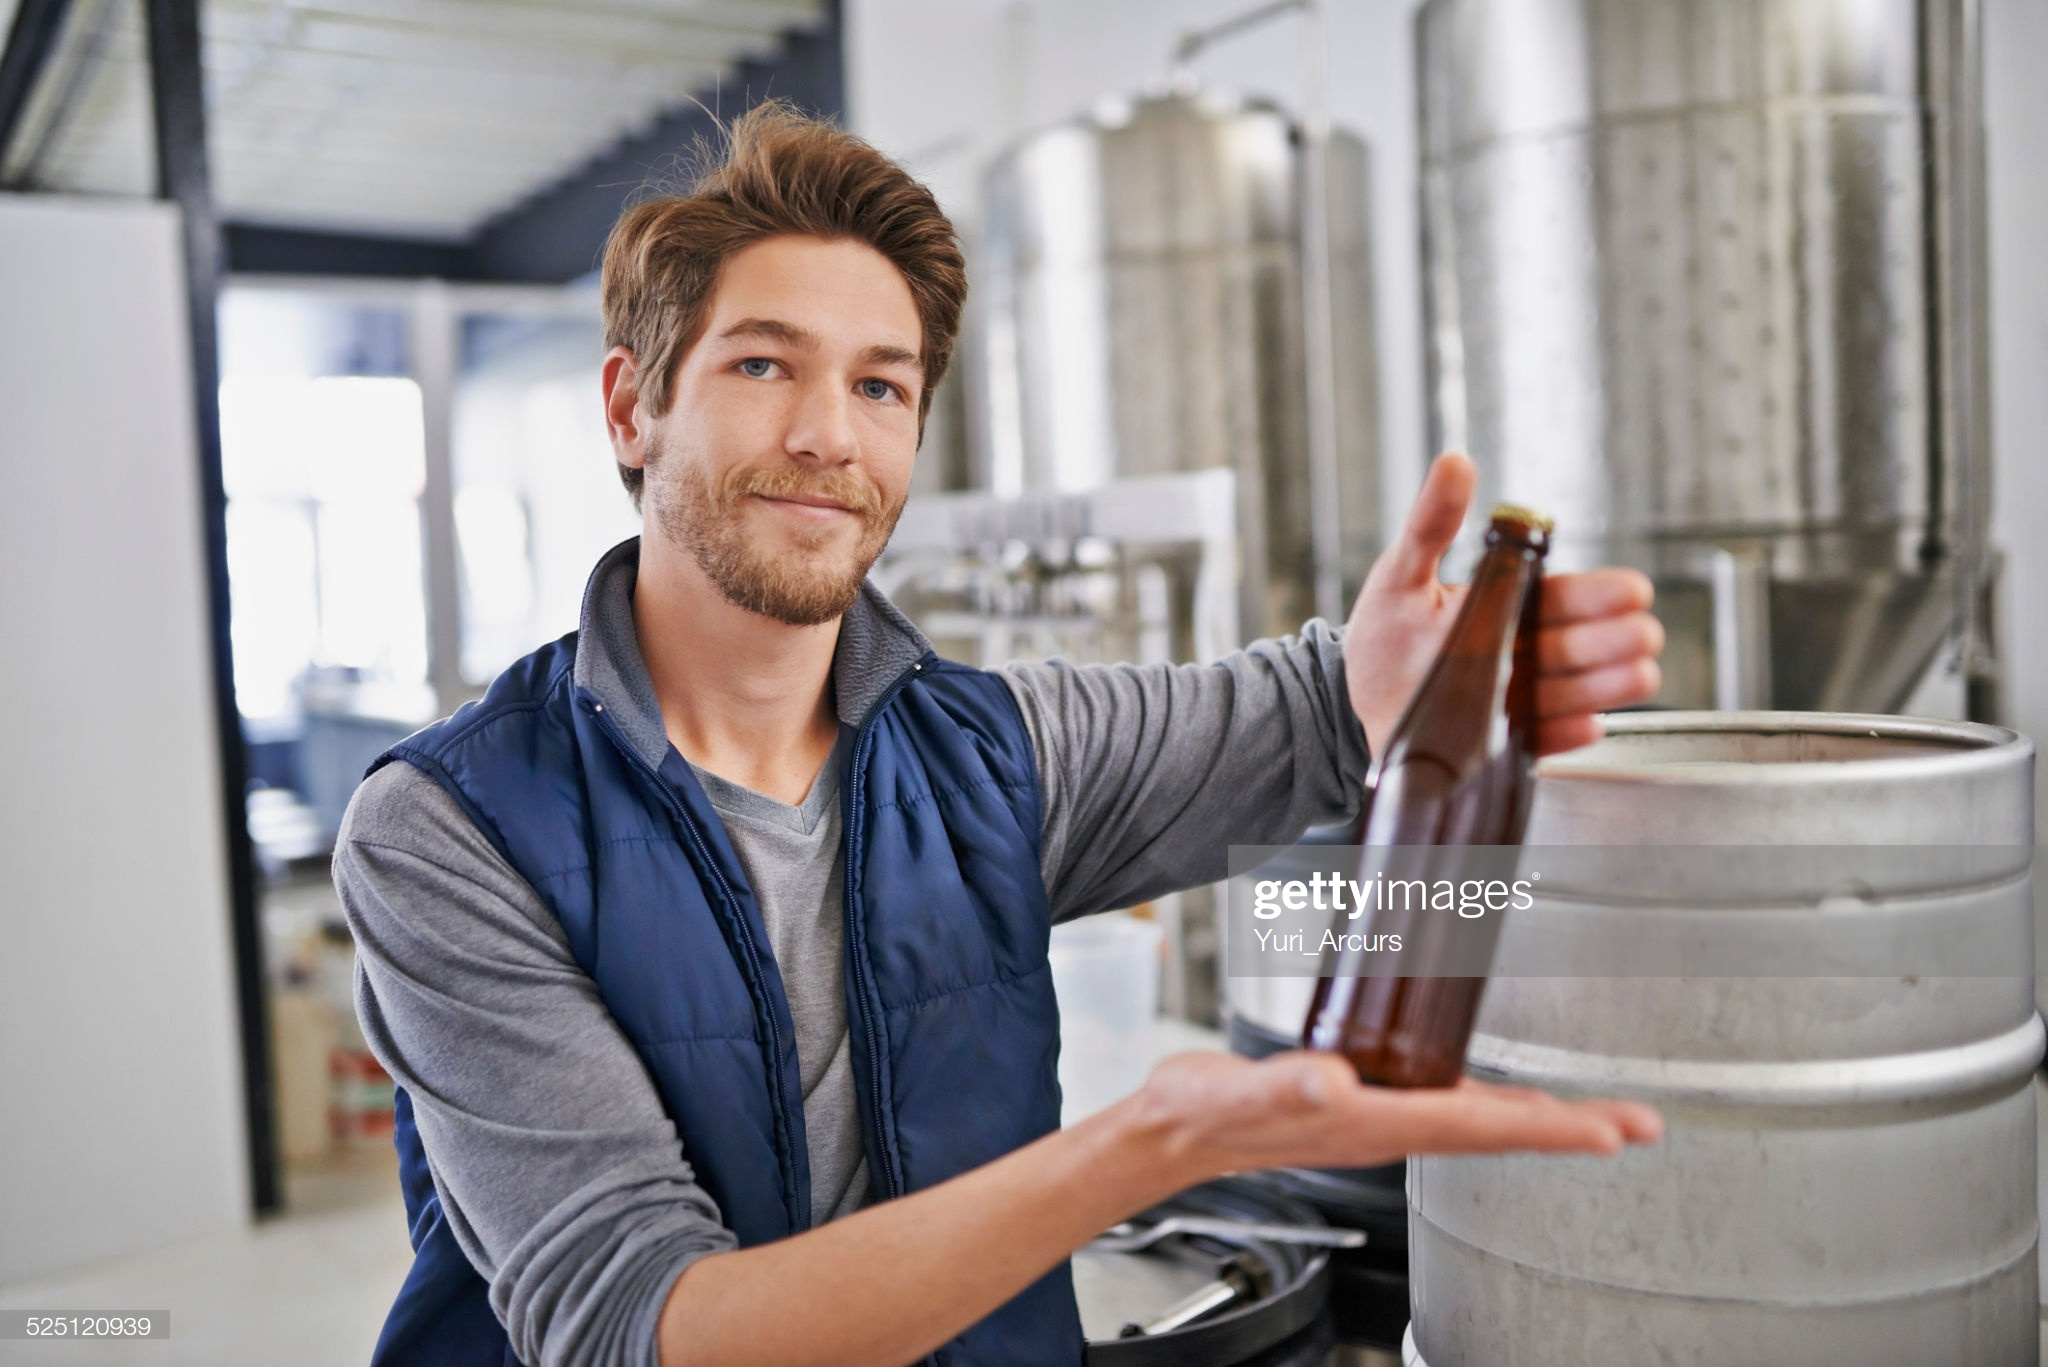beerBottle: (1289, 510, 1569, 1069)
